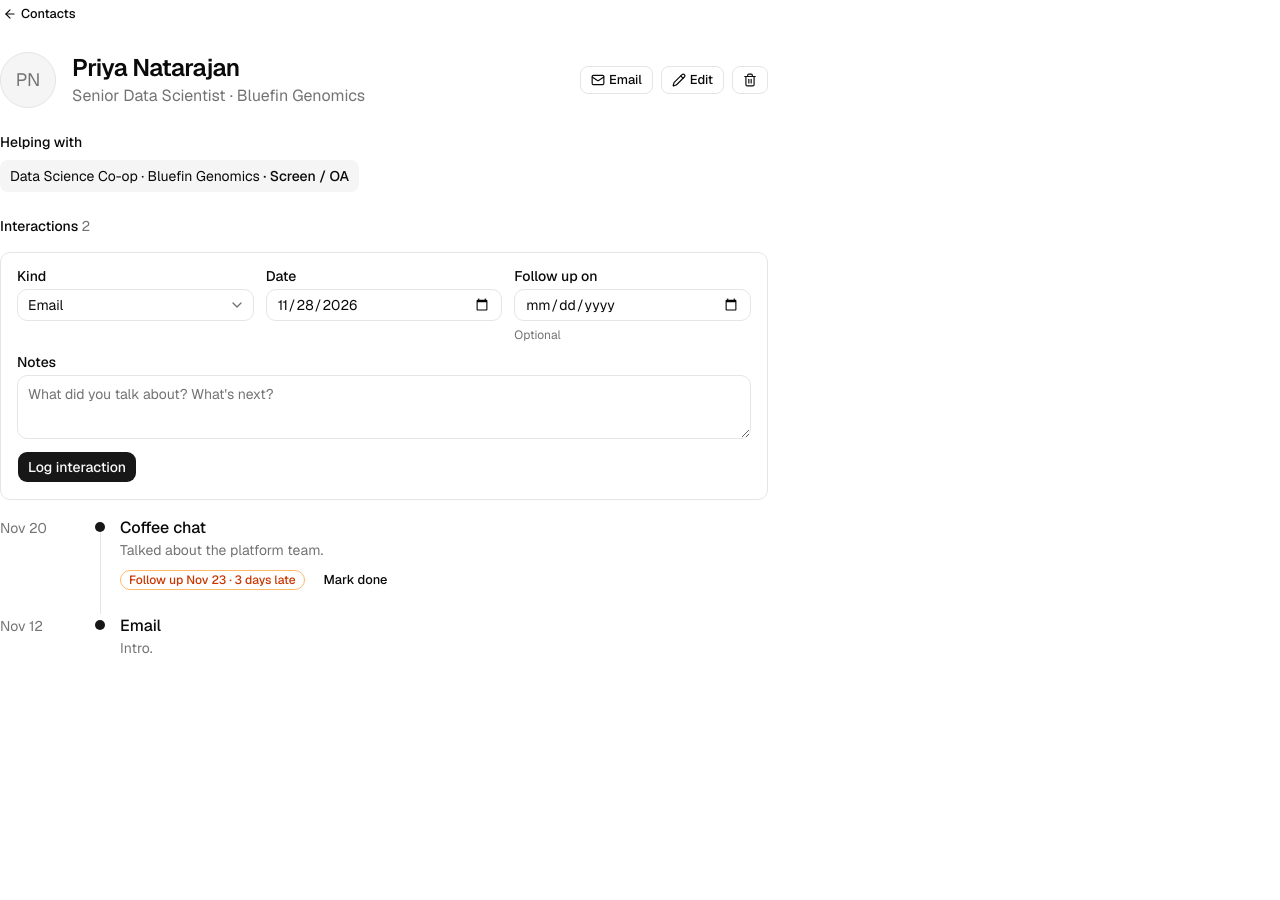
ContactDetailPage › asks before deleting, then goes back to the list
Later steps or results of the test are not shown.
Click the button named "Delete Priya Natarajan".
click(750, 80)  # box [732,66,768,94]
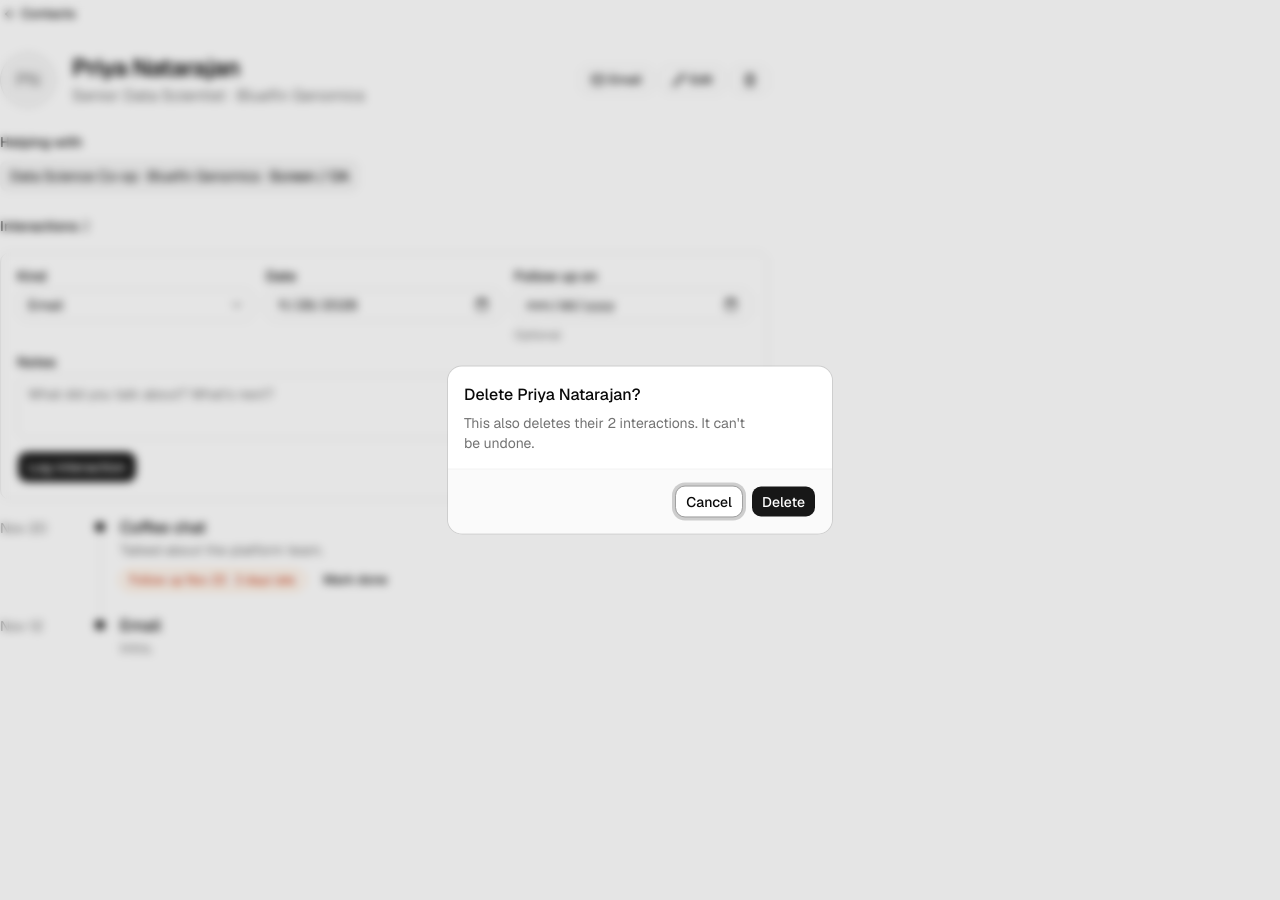
Expected: the dialog shows "This also deletes their 2 interactions.", [448,366,832,534]
